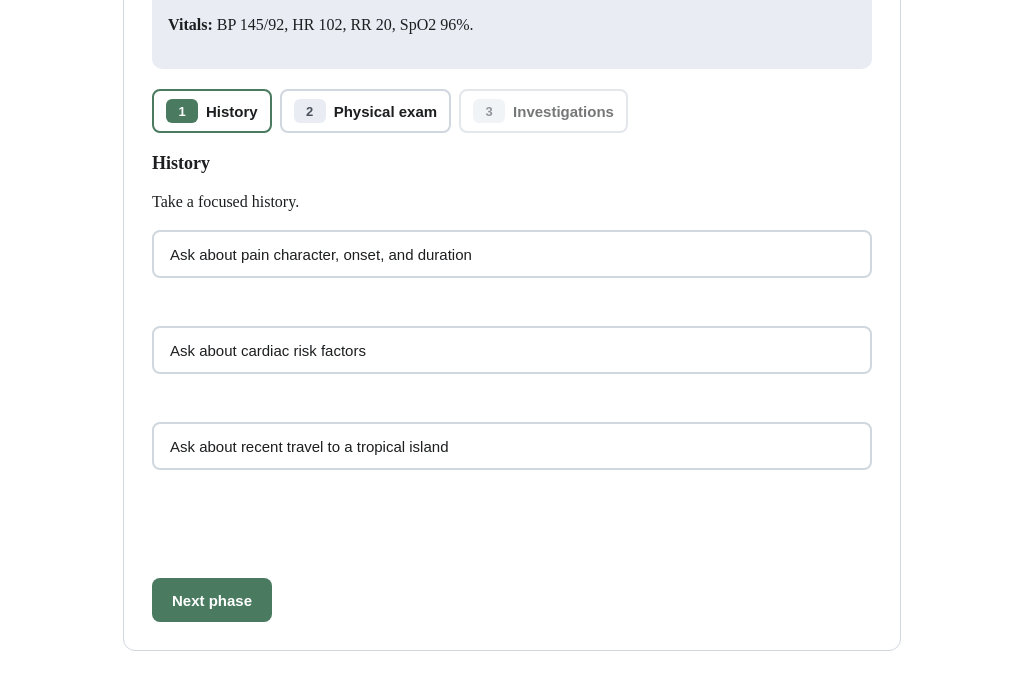
Test case: OSCE › shows retry from scoring.enableRetry with no behaviour block at all
The width and height of the screenshot is (1024, 683).
(page scrolled)
Click the button "Next phase". click: [212, 600]
box: [152,578,272,622]
(page scrolled)
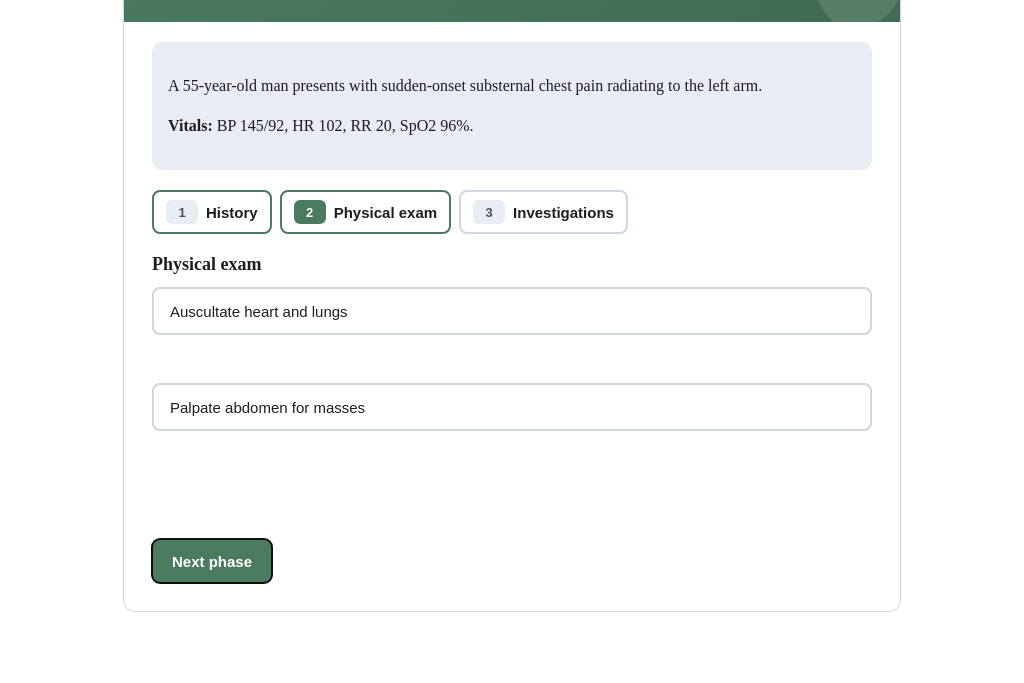
Click the button "Next phase". click: [212, 561]
box: [152,539,272,583]
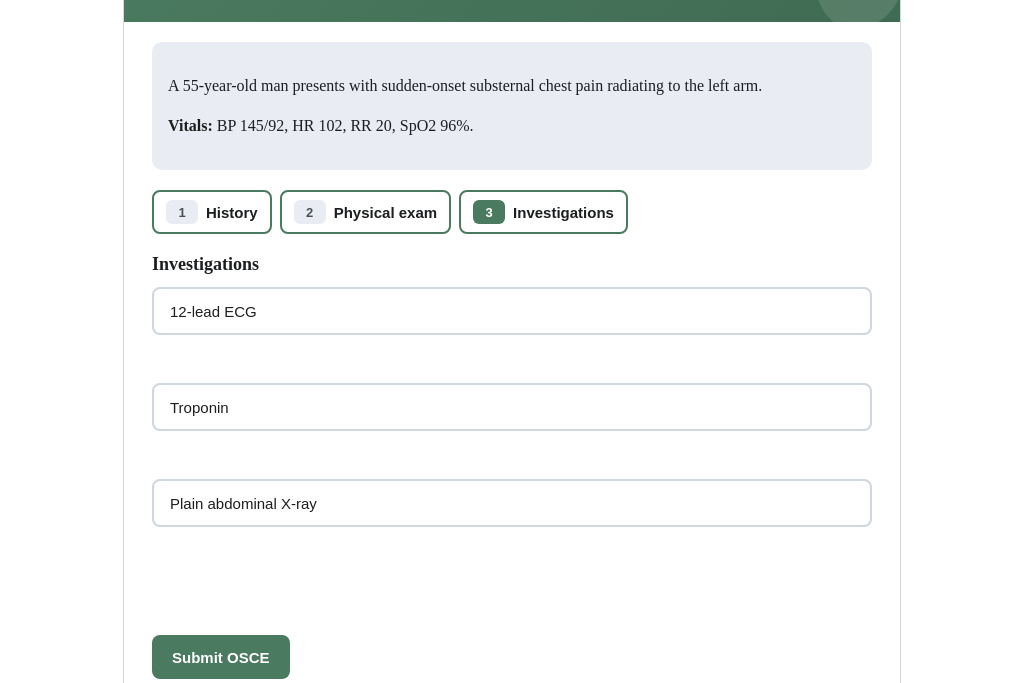
Click the button "Submit OSCE". click: [221, 657]
box: [152,635,290,679]
(page scrolled)
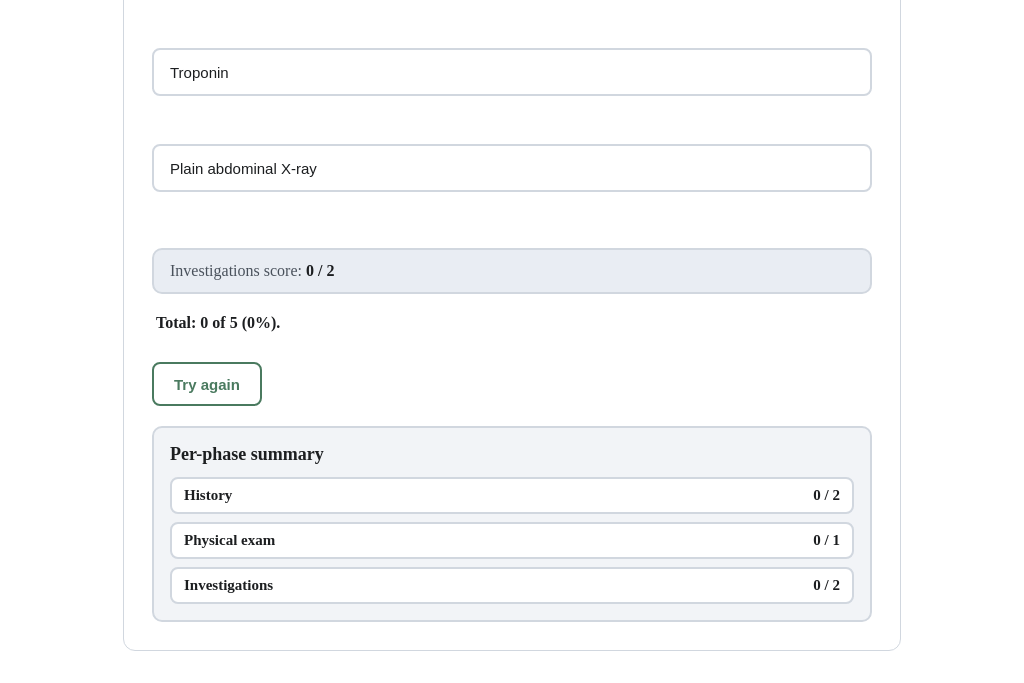
Expected: the button "Try again" is shown, [152,362,262,406]
